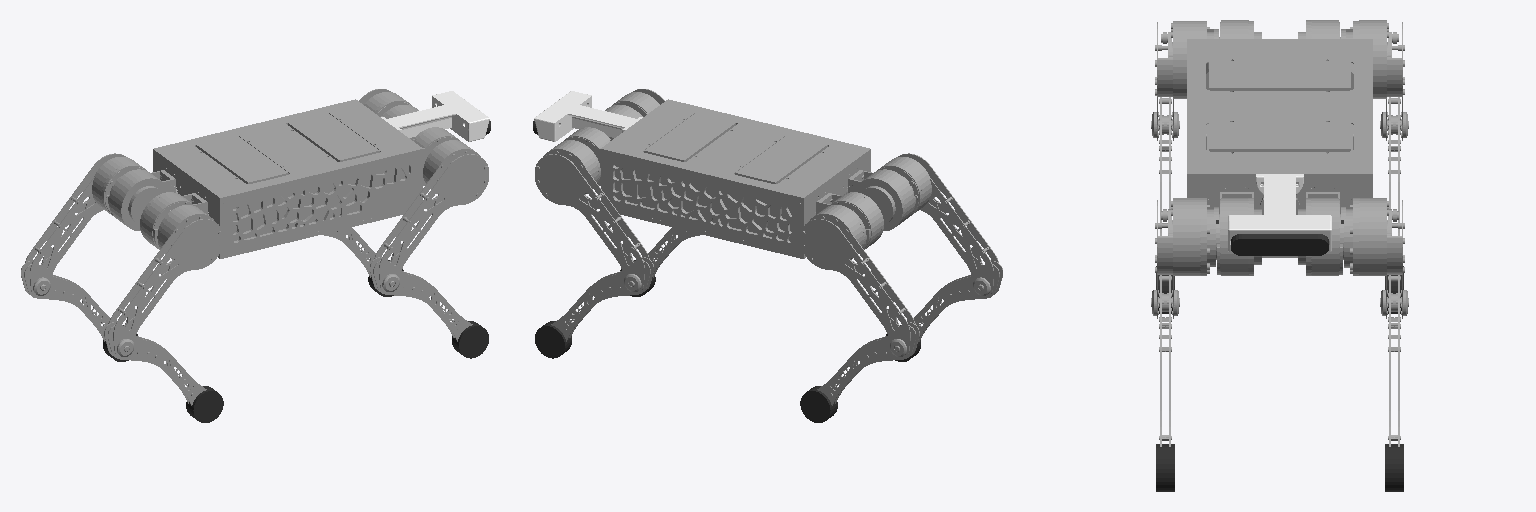
The robot description file, URDF, robot "ayg":
<?xml version="1.0" ?>
<!-- =================================================================================== -->
<!-- |    This document was autogenerated by xacro from ayg.xacro                      | -->
<!-- |    EDITING THIS FILE BY HAND IS NOT RECOMMENDED                                 | -->
<!-- =================================================================================== -->
<robot name="ayg">
  <link name="Base">
    <inertial>
      <origin rpy="0 0 0" xyz="0.000442764791303709 0.00323410160779704 0.000245694936587104"/>
      <mass value="8.43904999246817"/>
      <inertia ixx="0.020065303439704" ixy="4.08404656288191E-05" ixz="-2.29078687506071E-14" iyy="0.0384358501598642" iyz="-2.71859452435122E-15" izz="0.0267905011857108"/>
    </inertial>
    <visual>
      <origin rpy="0 0 0" xyz="0 0 0"/>
      <geometry>
        <mesh filename="package://ayg_description/meshes/Base.STL"/>
      </geometry>
      <material name="">
        <color rgba="0.698039215686274 0.698039215686274 0.698039215686274 1"/>
      </material>
    </visual>
    <collision>
      <origin rpy="0 0 0" xyz="0 0 0"/>
      <geometry>
        <box size="0.4 0.23 0.12"/>
      </geometry>
    </collision>
  </link>
  <link name="LF_Hip">
    <inertial>
      <origin rpy="0 0 0" xyz="0.0624625305028617 0.000263588472359728 -0.00241409757946361"/>
      <mass value="1.00401999005125"/>
      <inertia ixx="0.000584357699669872" ixy="1.71578981310067E-06" ixz="-2.61675027998363E-19" iyy="0.000584539401732687" iyz="-3.57751728713357E-20" izz="0.00102756652010595"/>
    </inertial>
    <visual>
      <origin rpy="0 0 0" xyz="0 0 0"/>
      <geometry>
        <mesh filename="package://ayg_description/meshes/L_Hip.STL"/>
      </geometry>
      <material name="">
        <color rgba="0.698039215686274 0.698039215686274 0.698039215686274 1"/>
      </material>
    </visual>
    <collision>
      <origin rpy="0 0 0" xyz="0.0665 0 0.034"/>
      <geometry>
        <cylinder length="0.13" radius="0.05"/>
      </geometry>
    </collision>
  </link>
  <joint name="LF_HAA" type="revolute">
    <origin rpy="-1.5708 0 0" xyz="0.197 0.054 0"/>
    <parent link="Base"/>
    <child link="LF_Hip"/>
    <axis xyz="1 0 0"/>
    <limit effort="50.0" lower="-0.5236" upper="0.34907" velocity="10.0"/>
  </joint>
  <link name="LF_Thigh">
    <inertial>
      <origin rpy="0 0 0" xyz="-0.00815740476229621 -0.00912689407030123 -0.0420066354122466"/>
      <mass value="1.15974999242447"/>
      <inertia ixx="0.000911992879302287" ixy="-0.000310524680951164" ixz="-4.3266057977693E-16" iyy="0.00091897366461706" iyz="-1.93894477964206E-06" izz="0.00169326046596367"/>
    </inertial>
    <visual>
      <origin rpy="0 0 0" xyz="0 0 0"/>
      <geometry>
        <mesh filename="package://ayg_description/meshes/L_Thigh.STL"/>
      </geometry>
      <material name="">
        <color rgba="0.698039215686274 0.698039215686274 0.698039215686274 1"/>
      </material>
    </visual>
    <collision>
      <origin rpy="0 1.5707963267948966 0.7853981633974483" xyz="-0.0975 -0.075 -0.07"/>
      <geometry>
        <box size="0.025 0.05 0.14"/>
      </geometry>
    </collision>
  </link>
  <joint name="LF_HFE" type="revolute">
    <origin rpy="3.1416 0 0" xyz="0.0665 0 0.019"/>
    <parent link="LF_Hip"/>
    <child link="LF_Thigh"/>
    <axis xyz="0 0 1"/>
    <limit effort="50.0" lower="-0.87266" upper="2.5307" velocity="10.0"/>
  </joint>
  <link name="LF_Shank">
    <inertial>
      <origin rpy="0 0 0" xyz="0.0630329536265654 -0.047817827674744 -0.0185"/>
      <mass value="0.102570008997248"/>
      <inertia ixx="0.00029767764878727" ixy="0.000296980915761884" ixz="1.63288326545704E-19" iyy="0.000327832614532812" iyz="-1.54063121876522E-19" izz="0.000624546801244392"/>
    </inertial>
    <visual>
      <origin rpy="0 0 0" xyz="0 0 0"/>
      <geometry>
        <mesh filename="package://ayg_description/meshes/L_Shank.STL"/>
      </geometry>
      <material name="">
        <color rgba="0.698039215686274 0.698039215686274 0.698039215686274 1"/>
      </material>
    </visual>
    <collision>
      <origin rpy="0 0 0" xyz="0 0 -0.02"/>
      <geometry>
        <cylinder length="0.03" radius="0.025"/>
      </geometry>
    </collision>
    <collision>
      <origin rpy="0 0 0.7853981633974483" xyz="0.08 -0.075 -0.02"/>
      <geometry>
        <box size="0.025 0.165 0.0125"/>
      </geometry>
    </collision>
  </link>
  <joint name="LF_KFE" type="revolute">
    <origin rpy="0 0 0" xyz="-0.14936 -0.16017 -0.052"/>
    <parent link="LF_Thigh"/>
    <child link="LF_Shank"/>
    <axis xyz="0 0 1"/>
    <limit effort="50.0" lower="-0.7854" upper="1.2217" velocity="10.0"/>
  </joint>
  <link name="LF_Foot">
    <inertial>
      <origin rpy="0 1.5707963267948966 0" xyz="-2.77555756156289E-17 5.55111512312578E-17 0"/>
      <mass value="0.088054927521184"/>
      <inertia ixx="4.09565481632907E-05" ixy="-8.61058027358505E-21" ixz="2.27932697045296E-20" iyy="2.47049106026622E-05" iyz="5.04870979341448E-29" izz="2.47049106026622E-05"/>
    </inertial>
    <visual>
      <origin rpy="0 0 0" xyz="0 0 0"/>
      <geometry>
        <cylinder length="0.025" radius="0.030"/>
      </geometry>
      <material name="">
        <color rgba="0.250980392156863 0.250980392156863 0.250980392156863 1"/>
      </material>
    </visual>
    <collision>
      <origin rpy="0 0 0" xyz="0 0 0"/>
      <geometry>
        <cylinder length="0.025" radius="0.030"/>
      </geometry>
    </collision>
  </link>
  <joint name="LF_Shank_2_Foot" type="fixed">
    <origin rpy="0 0 0" xyz="0.165 -0.151 -0.0185"/>
    <parent link="LF_Shank"/>
    <child link="LF_Foot"/>
    <axis xyz="0 0 0"/>
  </joint>
  <link name="RF_Hip">
    <inertial>
      <origin rpy="0 0 0" xyz="0.062462530502862 0.000263588472360484 0.00241409757946365"/>
      <mass value="1.00401999005125"/>
      <inertia ixx="0.000584357699669871" ixy="1.71578981310067E-06" ixz="-3.08533699148142E-19" iyy="0.000584539401732687" iyz="1.3310433650471E-20" izz="0.00102756652010595"/>
    </inertial>
    <visual>
      <origin rpy="0 0 0" xyz="0 0 0"/>
      <geometry>
        <mesh filename="package://ayg_description/meshes/R_Hip.STL"/>
      </geometry>
      <material name="">
        <color rgba="0.698039215686274 0.698039215686274 0.698039215686274 1"/>
      </material>
    </visual>
    <collision>
      <origin rpy="0 0 0" xyz="0.0665 0 -0.034"/>
      <geometry>
        <cylinder length="0.13" radius="0.05"/>
      </geometry>
    </collision>
  </link>
  <joint name="RF_HAA" type="revolute">
    <origin rpy="-1.5708 0 0" xyz="0.197 -0.054 0"/>
    <parent link="Base"/>
    <child link="RF_Hip"/>
    <axis xyz="1 0 0"/>
    <limit effort="50.0" lower="-0.34907" upper="0.5236" velocity="10.0"/>
  </joint>
  <link name="RF_Thigh">
    <inertial>
      <origin rpy="0 0 0" xyz="-0.00815740475775473 -0.0091268940561607 0.0420066354122466"/>
      <mass value="1.15974999242447"/>
      <inertia ixx="0.000911992879285499" ixy="-0.000310524680969909" ixz="4.28891709883383E-15" iyy="0.000918973664621895" iyz="1.93894536662709E-06" izz="0.00169326046595172"/>
    </inertial>
    <visual>
      <origin rpy="0 0 0" xyz="0 0 0"/>
      <geometry>
        <mesh filename="package://ayg_description/meshes/R_Thigh.STL"/>
      </geometry>
      <material name="">
        <color rgba="0.698039215686274 0.698039215686274 0.698039215686274 1"/>
      </material>
    </visual>
    <collision>
      <origin rpy="0 1.5707963267948966 0.7853981633974483" xyz="-0.0975 -0.075 +0.07"/>
      <geometry>
        <box size="0.025 0.05 0.14"/>
      </geometry>
    </collision>
  </link>
  <joint name="RF_HFE" type="revolute">
    <origin rpy="3.1416 0 0" xyz="0.0665 0 -0.019"/>
    <parent link="RF_Hip"/>
    <child link="RF_Thigh"/>
    <axis xyz="0 0 1"/>
    <limit effort="50.0" lower="-0.87266" upper="2.5307" velocity="10.0"/>
  </joint>
  <link name="RF_Shank">
    <inertial>
      <origin rpy="0 0 0" xyz="0.0630329536265653 -0.047817827674744 0.0185"/>
      <mass value="0.102570008997248"/>
      <inertia ixx="0.000297677648787269" ixy="0.000296980915761884" ixz="1.63489615161778E-19" iyy="0.000327832614532812" iyz="-1.53587053010883E-19" izz="0.000624546801244392"/>
    </inertial>
    <visual>
      <origin rpy="0 0 0" xyz="0 0 0"/>
      <geometry>
        <mesh filename="package://ayg_description/meshes/R_Shank.STL"/>
      </geometry>
      <material name="">
        <color rgba="0.698039215686274 0.698039215686274 0.698039215686274 1"/>
      </material>
    </visual>
    <collision>
      <origin rpy="0 0 0" xyz="0 0 +0.02"/>
      <geometry>
        <cylinder length="0.03" radius="0.025"/>
      </geometry>
    </collision>
    <collision>
      <origin rpy="0 0 0.7853981633974483" xyz="0.08 -0.075 +0.02"/>
      <geometry>
        <box size="0.025 0.165 0.0125"/>
      </geometry>
    </collision>
  </link>
  <joint name="RF_KFE" type="revolute">
    <origin rpy="0 0 0" xyz="-0.14936 -0.16017 0.052"/>
    <parent link="RF_Thigh"/>
    <child link="RF_Shank"/>
    <axis xyz="0 0 1"/>
    <limit effort="50.0" lower="-0.7854" upper="1.2217" velocity="10.0"/>
  </joint>
  <link name="RF_Foot">
    <inertial>
      <origin rpy="0 1.5707963267948966 0" xyz="0 0 0"/>
      <mass value="0.088054927521184"/>
      <inertia ixx="4.09565481632907E-05" ixy="-1.1480272825008E-21" ixz="3.01597797886474E-21" iyy="2.47049106026622E-05" iyz="2.27429196641528E-36" izz="2.47049106026622E-05"/>
    </inertial>
    <visual>
      <origin rpy="0 0 0" xyz="0 0 0"/>
      <geometry>
        <cylinder length="0.025" radius="0.030"/>
      </geometry>
      <material name="">
        <color rgba="0.250980392156863 0.250980392156863 0.250980392156863 1"/>
      </material>
    </visual>
    <collision>
      <origin rpy="0 0 0" xyz="0 0 0"/>
      <geometry>
        <cylinder length="0.025" radius="0.030"/>
      </geometry>
    </collision>
  </link>
  <joint name="RF_Shank_2_Foot" type="fixed">
    <origin rpy="0 0 0" xyz="0.165 -0.151 0.0185"/>
    <parent link="RF_Shank"/>
    <child link="RF_Foot"/>
    <axis xyz="0 0 0"/>
  </joint>
  <link name="LH_Hip">
    <inertial>
      <origin rpy="0 0 0" xyz="0.062462530502862 0.000263588472360432 0.0024140975794637"/>
      <mass value="1.00401999005125"/>
      <inertia ixx="0.000584357699669872" ixy="1.71578981310067E-06" ixz="-2.61675027998363E-19" iyy="0.000584539401732687" iyz="-3.57751728713357E-20" izz="0.00102756652010595"/>
    </inertial>
    <visual>
      <origin rpy="0 0 0" xyz="0 0 0"/>
      <geometry>
        <mesh filename="package://ayg_description/meshes/R_Hip.STL"/>
      </geometry>
      <material name="">
        <color rgba="0.698039215686274 0.698039215686274 0.698039215686274 1"/>
      </material>
    </visual>
    <collision>
      <origin rpy="0 0 0" xyz="0.0665 0 -0.034"/>
      <geometry>
        <cylinder length="0.13" radius="0.05"/>
      </geometry>
    </collision>
  </link>
  <joint name="LH_HAA" type="revolute">
    <origin rpy="-1.5708 0 3.1416" xyz="-0.197 0.054 0"/>
    <parent link="Base"/>
    <child link="LH_Hip"/>
    <axis xyz="1 0 0"/>
    <limit effort="50.0" lower="-0.87266" upper="0.5236" velocity="10.0"/>
  </joint>
  <link name="LH_Thigh">
    <inertial>
      <origin rpy="0 0 0" xyz="-0.00815740476229621 -0.00912689407030123 -0.0420066354122466"/>
      <mass value="1.15974999242447"/>
      <inertia ixx="0.000911992879302287" ixy="-0.000310524680951164" ixz="-4.3266057977693E-16" iyy="0.00091897366461706" iyz="-1.93894477964206E-06" izz="0.00169326046596367"/>
    </inertial>
    <visual>
      <origin rpy="0 0 0" xyz="0 0 0"/>
      <geometry>
        <mesh filename="package://ayg_description/meshes/L_Thigh.STL"/>
      </geometry>
      <material name="">
        <color rgba="0.698039215686274 0.698039215686274 0.698039215686274 1"/>
      </material>
    </visual>
    <collision>
      <origin rpy="0 1.5707963267948966 0.7853981633974483" xyz="-0.0975 -0.075 -0.07"/>
      <geometry>
        <box size="0.025 0.05 0.14"/>
      </geometry>
    </collision>
  </link>
  <joint name="LH_HFE" type="revolute">
    <origin rpy="0 0 3.1416" xyz="0.0665 0 -0.019"/>
    <parent link="LH_Hip"/>
    <child link="LH_Thigh"/>
    <axis xyz="0 0 1"/>
    <limit effort="50.0" lower="-2.5307" upper="0.87266" velocity="10.0"/>
  </joint>
  <link name="LH_Shank">
    <inertial>
      <origin rpy="0 0 0" xyz="0.0630329536265654 -0.047817827674744 -0.0185"/>
      <mass value="0.102570008997248"/>
      <inertia ixx="0.00029767764878727" ixy="0.000296980915761884" ixz="1.63288326545704E-19" iyy="0.000327832614532812" iyz="-1.54063121876522E-19" izz="0.000624546801244392"/>
    </inertial>
    <visual>
      <origin rpy="0 0 0" xyz="0 0 0"/>
      <geometry>
        <mesh filename="package://ayg_description/meshes/L_Shank.STL"/>
      </geometry>
      <material name="">
        <color rgba="0.698039215686274 0.698039215686274 0.698039215686274 1"/>
      </material>
    </visual>
    <collision>
      <origin rpy="0 0 0" xyz="0 0 -0.02"/>
      <geometry>
        <cylinder length="0.03" radius="0.025"/>
      </geometry>
    </collision>
    <collision>
      <origin rpy="0 0 0.7853981633974483" xyz="0.08 -0.075 -0.02"/>
      <geometry>
        <box size="0.025 0.165 0.0125"/>
      </geometry>
    </collision>
  </link>
  <joint name="LH_KFE" type="revolute">
    <origin rpy="0 0 0" xyz="-0.14936 -0.16017 -0.052"/>
    <parent link="LH_Thigh"/>
    <child link="LH_Shank"/>
    <axis xyz="0 0 1"/>
    <limit effort="50.0" lower="-0.7854" upper="1.2217" velocity="10.0"/>
  </joint>
  <link name="LH_Foot">
    <inertial>
      <origin rpy="0 1.5707963267948966 0" xyz="-2.77555756156289E-17 5.55111512312578E-17 0"/>
      <mass value="0.088054927521184"/>
      <inertia ixx="4.09565481632907E-05" ixy="-8.61058027358505E-21" ixz="2.27932697045296E-20" iyy="2.47049106026622E-05" iyz="5.04870979341448E-29" izz="2.47049106026622E-05"/>
    </inertial>
    <visual>
      <origin rpy="0 0 0" xyz="0 0 0"/>
      <geometry>
        <cylinder length="0.025" radius="0.030"/>
      </geometry>
      <material name="">
        <color rgba="0.250980392156863 0.250980392156863 0.250980392156863 1"/>
      </material>
    </visual>
    <collision>
      <origin rpy="0 0 0" xyz="0 0 0"/>
      <geometry>
        <cylinder length="0.025" radius="0.030"/>
      </geometry>
    </collision>
  </link>
  <joint name="LH_Shank_2_Foot" type="fixed">
    <origin rpy="0 0 0" xyz="0.165 -0.151 -0.0185"/>
    <parent link="LH_Shank"/>
    <child link="LH_Foot"/>
    <axis xyz="0 0 0"/>
  </joint>
  <link name="RH_Hip">
    <inertial>
      <origin rpy="0 0 0" xyz="0.0624625305028617 0.000263588472359603 -0.00241409757946362"/>
      <mass value="1.00401999005125"/>
      <inertia ixx="0.000584357699669871" ixy="1.71578981310067E-06" ixz="-3.08533699148142E-19" iyy="0.000584539401732687" iyz="1.3310433650471E-20" izz="0.00102756652010595"/>
    </inertial>
    <visual>
      <origin rpy="0 0 0" xyz="0 0 0"/>
      <geometry>
        <mesh filename="package://ayg_description/meshes/L_Hip.STL"/>
      </geometry>
      <material name="">
        <color rgba="0.698039215686274 0.698039215686274 0.698039215686274 1"/>
      </material>
    </visual>
    <collision>
      <origin rpy="0 0 0" xyz="0.0665 0 0.034"/>
      <geometry>
        <cylinder length="0.13" radius="0.05"/>
      </geometry>
    </collision>
  </link>
  <joint name="RH_HAA" type="revolute">
    <origin rpy="-1.5708 0 3.1416" xyz="-0.197 -0.054 0"/>
    <parent link="Base"/>
    <child link="RH_Hip"/>
    <axis xyz="1 0 0"/>
    <limit effort="50.0" lower="-0.5236" upper="0.87266" velocity="10.0"/>
  </joint>
  <link name="RH_Thigh">
    <inertial>
      <origin rpy="0 0 0" xyz="-0.00815740475775473 -0.0091268940561607 0.0420066354122466"/>
      <mass value="1.15974999242447"/>
      <inertia ixx="0.000911992879285499" ixy="-0.000310524680969909" ixz="4.28891709883383E-15" iyy="0.000918973664621895" iyz="1.93894536662709E-06" izz="0.00169326046595172"/>
    </inertial>
    <visual>
      <origin rpy="0 0 0" xyz="0 0 0"/>
      <geometry>
        <mesh filename="package://ayg_description/meshes/R_Thigh.STL"/>
      </geometry>
      <material name="">
        <color rgba="0.698039215686274 0.698039215686274 0.698039215686274 1"/>
      </material>
    </visual>
    <collision>
      <origin rpy="0 1.5707963267948966 0.7853981633974483" xyz="-0.0975 -0.075 +0.07"/>
      <geometry>
        <box size="0.025 0.05 0.14"/>
      </geometry>
    </collision>
  </link>
  <joint name="RH_HFE" type="revolute">
    <origin rpy="0 0 3.1416" xyz="0.0665 0 0.019"/>
    <parent link="RH_Hip"/>
    <child link="RH_Thigh"/>
    <axis xyz="0 0 1"/>
    <limit effort="50.0" lower="-2.5307" upper="0.87266" velocity="10.0"/>
  </joint>
  <link name="RH_Shank">
    <inertial>
      <origin rpy="0 0 0" xyz="0.0630329536265653 -0.047817827674744 0.0185"/>
      <mass value="0.102570008997248"/>
      <inertia ixx="0.000297677648787269" ixy="0.000296980915761884" ixz="1.63489615161778E-19" iyy="0.000327832614532812" iyz="-1.53587053010883E-19" izz="0.000624546801244392"/>
    </inertial>
    <visual>
      <origin rpy="0 0 0" xyz="0 0 0"/>
      <geometry>
        <mesh filename="package://ayg_description/meshes/R_Shank.STL"/>
      </geometry>
      <material name="">
        <color rgba="0.698039215686274 0.698039215686274 0.698039215686274 1"/>
      </material>
    </visual>
    <collision>
      <origin rpy="0 0 0" xyz="0 0 +0.02"/>
      <geometry>
        <cylinder length="0.03" radius="0.025"/>
      </geometry>
    </collision>
    <collision>
      <origin rpy="0 0 0.7853981633974483" xyz="0.08 -0.075 +0.02"/>
      <geometry>
        <box size="0.025 0.165 0.0125"/>
      </geometry>
    </collision>
  </link>
  <joint name="RH_KFE" type="revolute">
    <origin rpy="0 0 0" xyz="-0.14936 -0.16017 0.052"/>
    <parent link="RH_Thigh"/>
    <child link="RH_Shank"/>
    <axis xyz="0 0 1"/>
    <limit effort="50.0" lower="-0.7854" upper="1.2217" velocity="10.0"/>
  </joint>
  <link name="RH_Foot">
    <inertial>
      <origin rpy="0 1.5707963267948966 0" xyz="0 0 0"/>
      <mass value="0.088054927521184"/>
      <inertia ixx="4.09565481632907E-05" ixy="-1.1480272825008E-21" ixz="3.01597797886474E-21" iyy="2.47049106026622E-05" iyz="2.27429196641528E-36" izz="2.47049106026622E-05"/>
    </inertial>
    <visual>
      <origin rpy="0 0 0" xyz="0 0 0"/>
      <geometry>
        <cylinder length="0.025" radius="0.030"/>
      </geometry>
      <material name="">
        <color rgba="0.250980392156863 0.250980392156863 0.250980392156863 1"/>
      </material>
    </visual>
    <collision>
      <origin rpy="0 0 0" xyz="0 0 0"/>
      <geometry>
        <cylinder length="0.025" radius="0.030"/>
      </geometry>
    </collision>
  </link>
  <joint name="RH_Shank_2_Foot" type="fixed">
    <origin rpy="0 0 0" xyz="0.165 -0.151 0.0185"/>
    <parent link="RH_Shank"/>
    <child link="RH_Foot"/>
    <axis xyz="0 0 0"/>
  </joint>
  <link name="IMU">
    <inertial>
      <origin rpy="0 0 0" xyz="-8.67049396793524E-18 0.02 5.37094698008006E-18"/>
      <mass value="0.08"/>
      <inertia ixx="2.13333333333333E-05" ixy="-4.34540023236298E-22" ixz="-1.52363539595465E-21" iyy="2.73333333333333E-05" iyz="-2.43977500178881E-21" izz="2.73333333333333E-05"/>
    </inertial>
    <visual>
      <origin rpy="0 0 0" xyz="0 0 0"/>
      <geometry>
        <mesh filename="package://ayg_description/meshes/IMU.STL"/>
      </geometry>
      <material name="">
        <color rgba="0.792156862745098 0.819607843137255 0.933333333333333 1"/>
      </material>
    </visual>
  </link>
  <joint name="Base_2_IMU" type="fixed">
    <origin rpy="-1.5708 0 1.5708" xyz="0 0 0.006"/>
    <parent link="Base"/>
    <child link="IMU"/>
    <axis xyz="0 0 0"/>
  </joint>
  <link name="Neck">
    <inertial>
      <origin rpy="0 0 0" xyz="0 0 0"/>
      <mass value="0"/>
      <inertia ixx="0" ixy="0" ixz="0" iyy="0" iyz="0" izz="0"/>
    </inertial>
    <visual>
      <origin rpy="0 0 0" xyz="0 0 0"/>
      <geometry>
        <mesh filename="package://ayg_description/meshes/Neck.STL"/>
      </geometry>
      <material name="">
        <color rgba="1 1 1 1"/>
      </material>
    </visual>
  </link>
  <joint name="Base_2_Neck" type="fixed">
    <origin rpy="1.5707963267949 0 1.5707963267949" xyz="0.2615 0 0.0249999999999999"/>
    <parent link="Base"/>
    <child link="Neck"/>
    <axis xyz="0 0 0"/>
  </joint>
  <link name="Camera">
    <inertial>
      <origin rpy="0 0 0" xyz="7.0525E-18 -2.7756E-17 0.013"/>
      <mass value="0.16948"/>
      <inertia ixx="2.085E-05" ixy="5.6809E-20" ixz="-7.2863E-20" iyy="0.00020719" iyz="3.3881E-21" izz="0.00020895"/>
    </inertial>
    <visual>
      <origin rpy="0 0 0" xyz="0 0 0"/>
      <geometry>
        <mesh filename="package://ayg_description/meshes/Camera.STL"/>
      </geometry>
      <material name="">
        <color rgba="0.25098 0.25098 0.25098 1"/>
      </material>
    </visual>
    <collision>
      <origin rpy="-0.288975409992567 0 0" xyz="0 -0.0025 0"/>
      <geometry>
        <box size="0.13 0.035 0.05"/>
      </geometry>
    </collision>
  </link>
  <joint name="Neck_2_Camera" type="fixed">
    <origin rpy="0.288975409992567 0 0" xyz="0 0.0166603444360147 0.0804068913666247"/>
    <parent link="Neck"/>
    <child link="Camera"/>
    <axis xyz="0 0 0"/>
  </joint>
</robot>

--- What the picture shows (computed from the rendered views, not written in the file) ---
3 views of the same robot in one strip: view 1: azimuth 30°, elevation 25°; view 2: azimuth 150°, elevation 25°; view 3: azimuth 270°, elevation 25° (orthographic).
Model ayg with 20 links and 19 joints (12 revolute, 7 fixed), rooted at Base, posed every joint at zero.
Visible links, largest first — view 1: Base, RH_Thigh, RF_Thigh, LH_Thigh, Neck, LH_Hip, RF_Shank, RH_Shank, LH_Shank, RH_Hip, RH_Foot, RF_Foot (+3 smaller); view 2: Base, LH_Thigh, LF_Thigh, RH_Thigh, Neck, RH_Hip, LF_Shank, LH_Shank, RH_Shank, LH_Hip, LH_Foot, LF_Foot (+3 smaller); view 3: Base, LF_Thigh, RF_Thigh, Neck, LH_Thigh, RH_Thigh, Camera, LF_Hip, RF_Hip, LF_Shank, RF_Shank, LF_Foot (+5 smaller).
Link boxes in pixels (x1,y1,x2,y2): Base: [153, 99, 422, 258]; RH_Thigh: [108, 205, 223, 357]; RF_Thigh: [374, 140, 488, 292]; LH_Thigh: [25, 153, 146, 296]; Neck: [381, 91, 489, 141]; LH_Hip: [108, 169, 177, 230]; RF_Shank: [370, 257, 472, 341]; RH_Shank: [104, 322, 206, 405]; LH_Shank: [21, 261, 109, 341]; RH_Hip: [140, 192, 208, 249]; RH_Foot: [186, 386, 223, 422]; RF_Foot: [452, 321, 488, 358]; Base: [601, 99, 870, 258]; LH_Thigh: [800, 205, 915, 357]; LF_Thigh: [535, 140, 649, 292]; RH_Thigh: [877, 153, 998, 296]; Neck: [534, 91, 642, 141]; RH_Hip: [846, 169, 915, 230]; LF_Shank: [551, 257, 653, 341]; LH_Shank: [817, 322, 919, 405]; RH_Shank: [914, 261, 1002, 341]; LH_Hip: [815, 192, 883, 249]; LH_Foot: [800, 386, 837, 422]; LF_Foot: [535, 321, 571, 358]; Base: [1187, 39, 1372, 257]; LF_Thigh: [1340, 198, 1407, 318]; RF_Thigh: [1152, 198, 1219, 318]; Neck: [1228, 174, 1331, 251]; LH_Thigh: [1340, 20, 1407, 140]; RH_Thigh: [1152, 21, 1219, 140]; Camera: [1231, 234, 1328, 255]; LF_Hip: [1298, 192, 1342, 275]; RF_Hip: [1217, 192, 1261, 275]; LF_Shank: [1380, 275, 1408, 446]; RF_Shank: [1151, 275, 1179, 446]; LF_Foot: [1385, 444, 1403, 491].
Bounding box of the posed robot: 0.8151 × 0.324 × 0.4012 m (x, y, z).
16 mesh visuals loaded from 10 distinct referenced files (10 binary STL).
